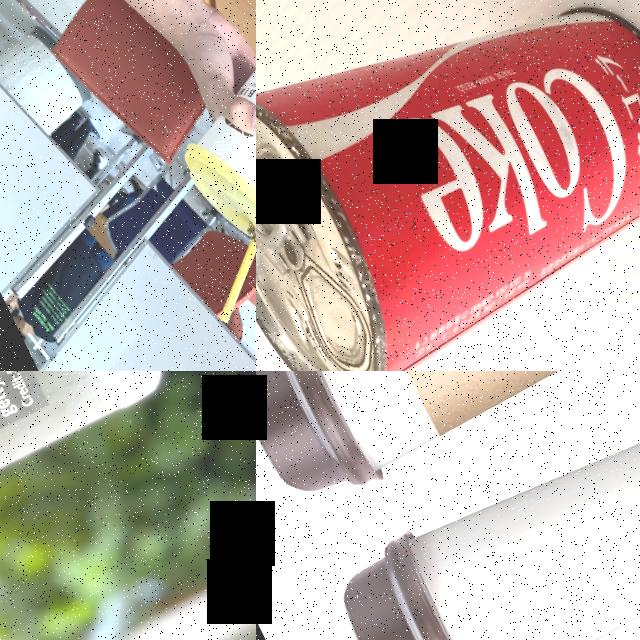bottle: (0, 371, 197, 635)
can: (256, 0, 640, 371)
cup: (321, 371, 640, 640), (256, 371, 640, 521), (154, 42, 256, 264)
